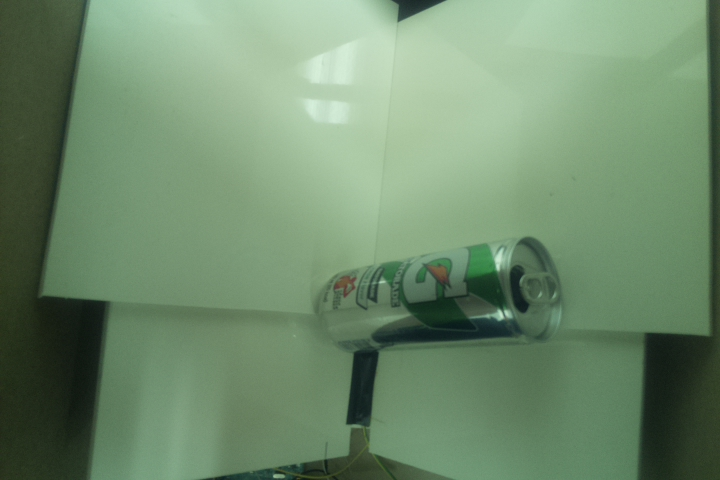can: (312, 230, 562, 356)
